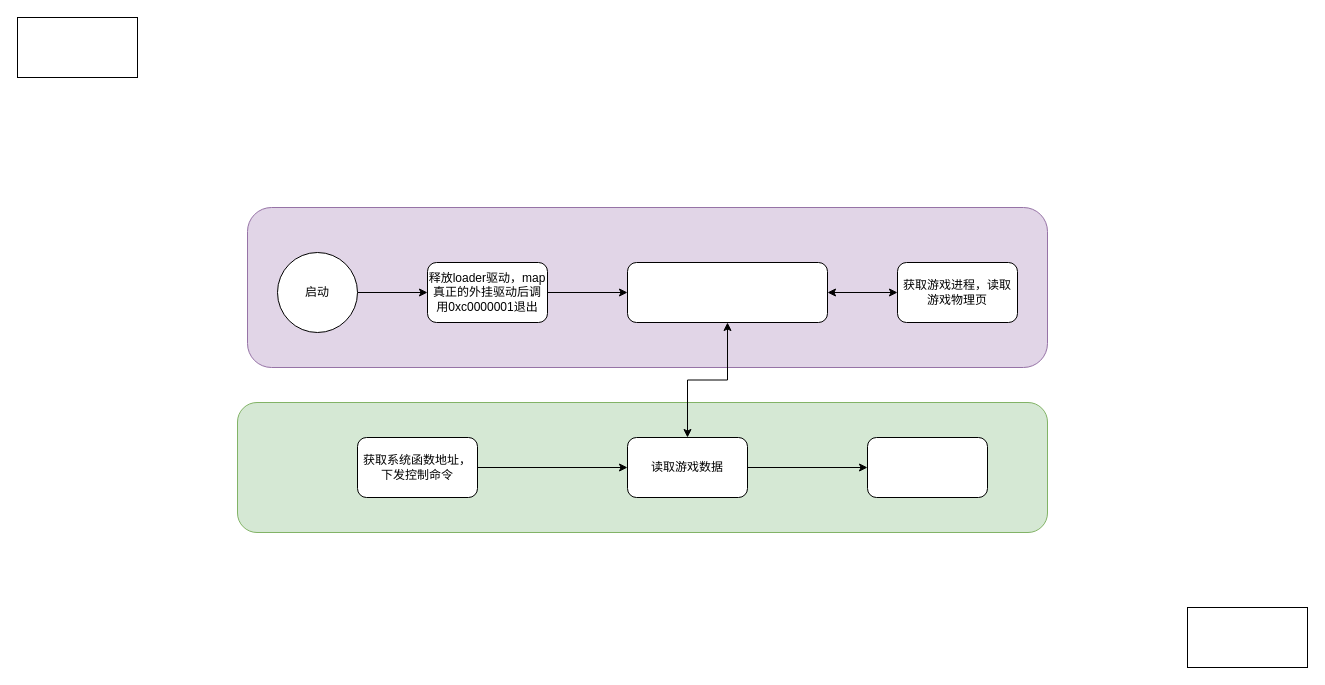
Some shapes in this 1325 by 685 pixel diagram are drawn without their labels. Here are the shapes that lost their labels. From the top down, the box of each, then its label:
(626, 262, 828, 322): 驱动启动一个系统线程，hook FsRtlLookupLargeMcbEntry作为通信点
(866, 436, 988, 498): R3绘制
